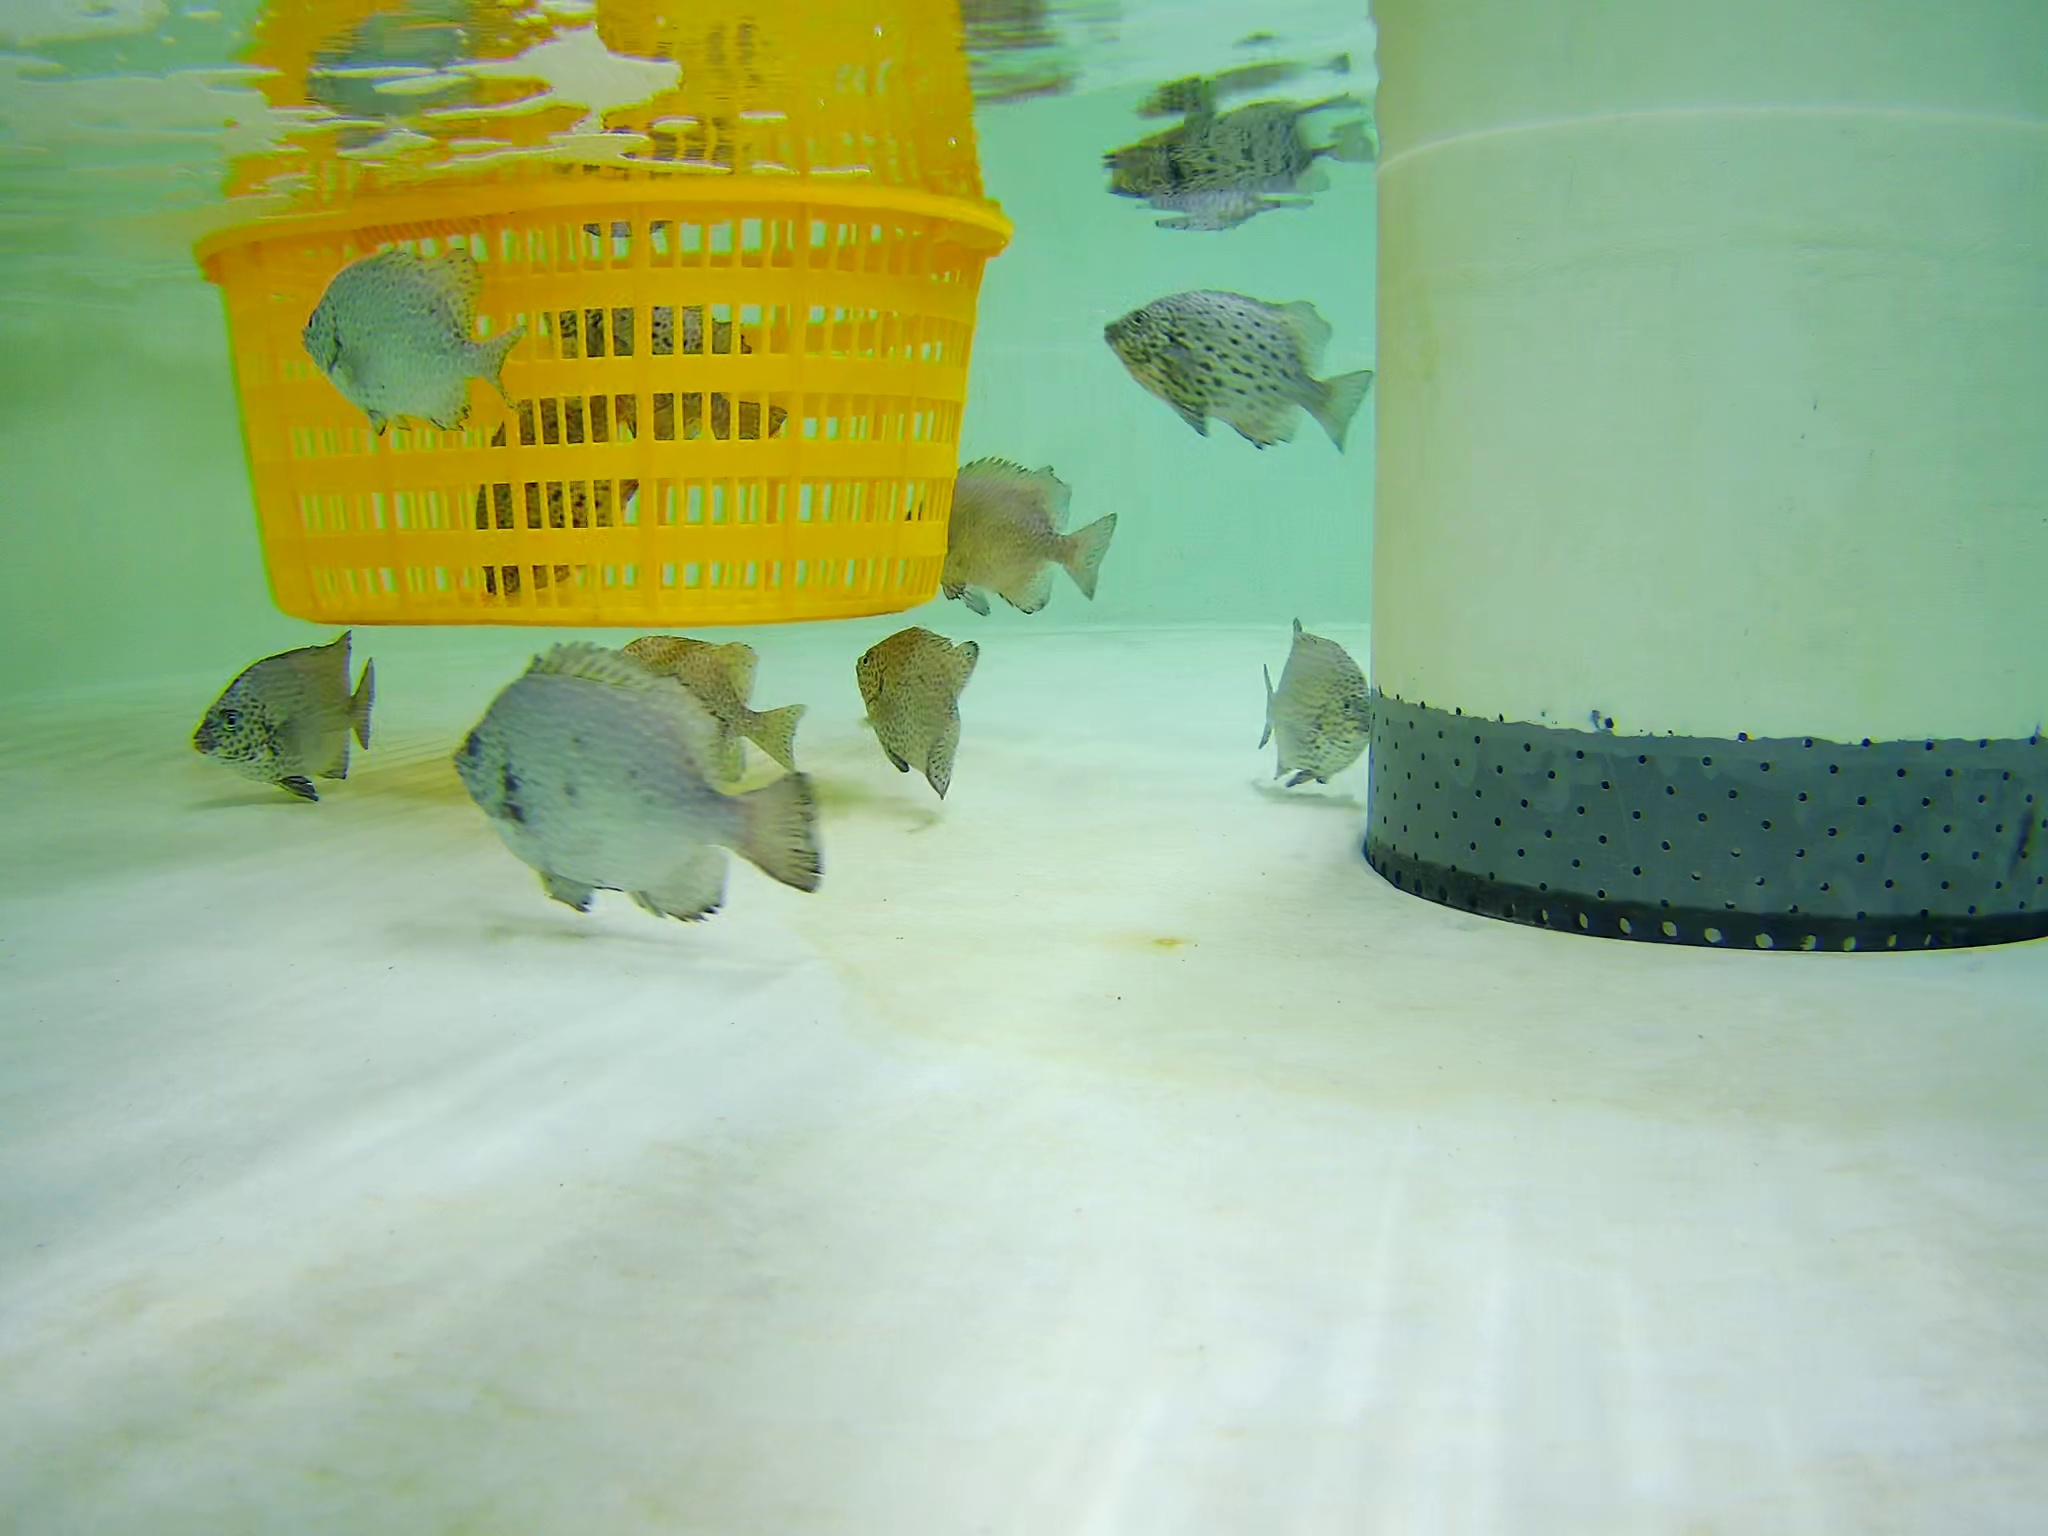fish: (448, 641, 827, 933), (540, 242, 784, 455), (1100, 286, 1376, 463), (292, 247, 514, 432), (461, 394, 645, 587), (905, 457, 1129, 613), (174, 636, 379, 791), (621, 632, 808, 799), (1247, 623, 1376, 800), (850, 626, 980, 794)
